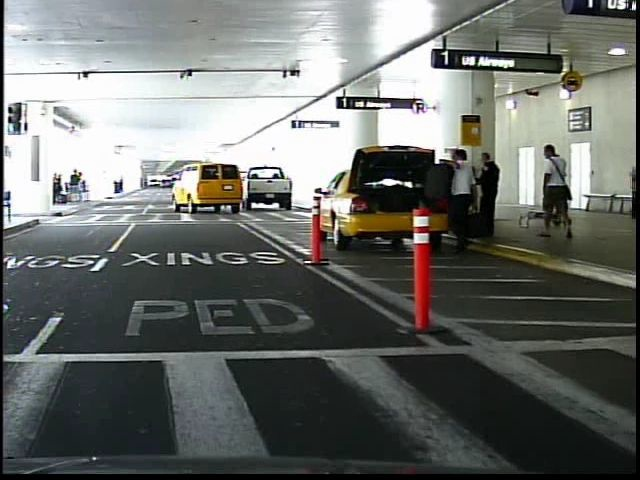person: (532, 138, 571, 240), (619, 150, 639, 221)
